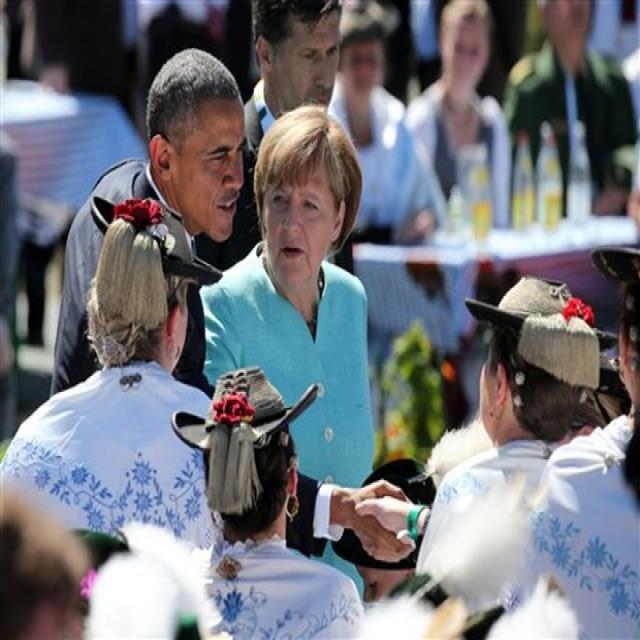body: (47, 45, 419, 576), (197, 105, 375, 612), (0, 195, 224, 549), (412, 273, 608, 640), (466, 233, 640, 640), (0, 0, 153, 368), (170, 363, 367, 640), (190, 0, 357, 286), (404, 0, 519, 336), (499, 0, 640, 217), (326, 0, 447, 248)
